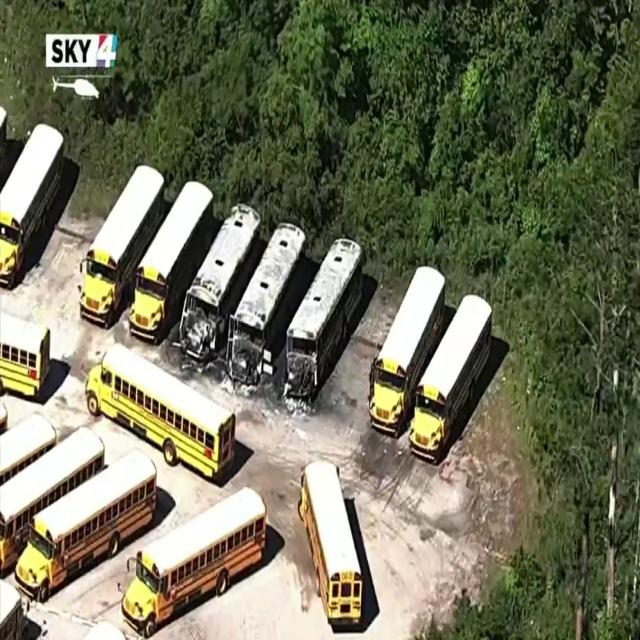bus: (78, 334, 245, 497), (26, 436, 160, 620), (123, 488, 271, 638), (406, 257, 505, 480), (125, 160, 228, 339), (364, 238, 452, 447), (72, 150, 165, 334), (289, 450, 371, 634), (0, 118, 81, 295)
